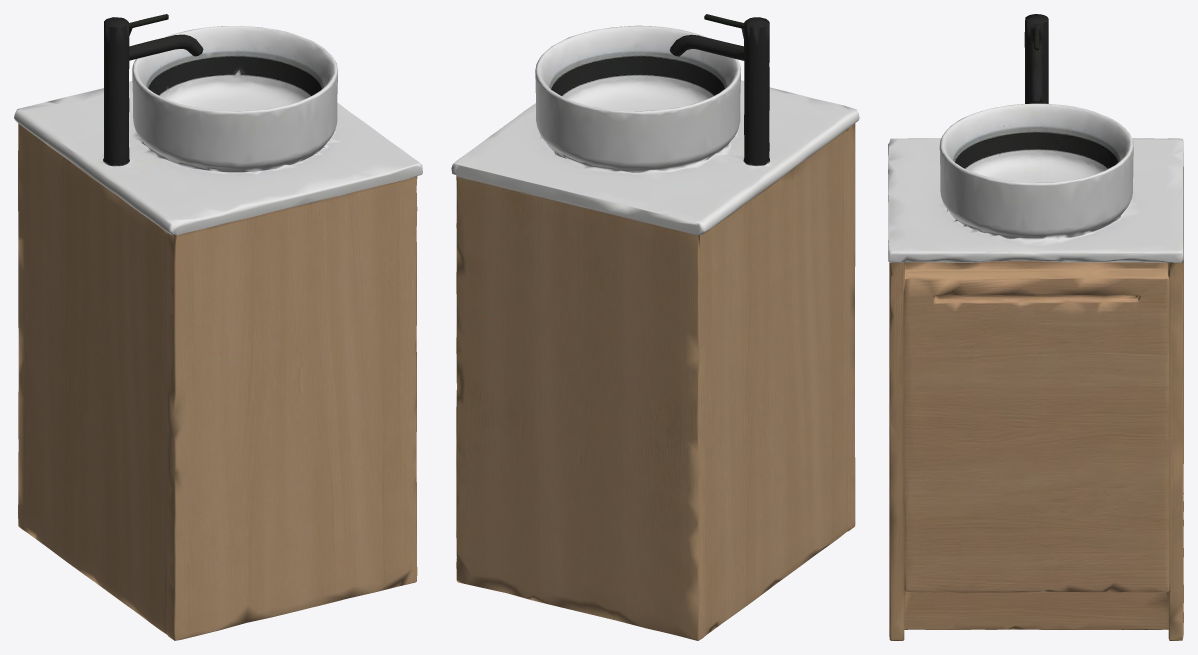
The model's file is vanity-tripo.glb.
The picture shows the model from 3 angles, left to right: view 1: azimuth 30°, elevation 25°; view 2: azimuth 150°, elevation 25°; view 3: azimuth 270°, elevation 25°; orthographic projection. The views are drawn at different scales.
Visible parts, largest first — view 1: tripo_node_943ee43b-4313-4c91-b5c3-200d8e1702de; view 2: tripo_node_943ee43b-4313-4c91-b5c3-200d8e1702de; view 3: tripo_node_943ee43b-4313-4c91-b5c3-200d8e1702de.
Boxes of the visible parts, box(x1,y1,x2,y2) form: tripo_node_943ee43b-4313-4c91-b5c3-200d8e1702de: box(14, 14, 422, 640); tripo_node_943ee43b-4313-4c91-b5c3-200d8e1702de: box(451, 14, 859, 640); tripo_node_943ee43b-4313-4c91-b5c3-200d8e1702de: box(888, 14, 1183, 640).
Bounding box in the file's own units: 0.4754 × 1 × 0.5143.
1 material, 1 textured.
